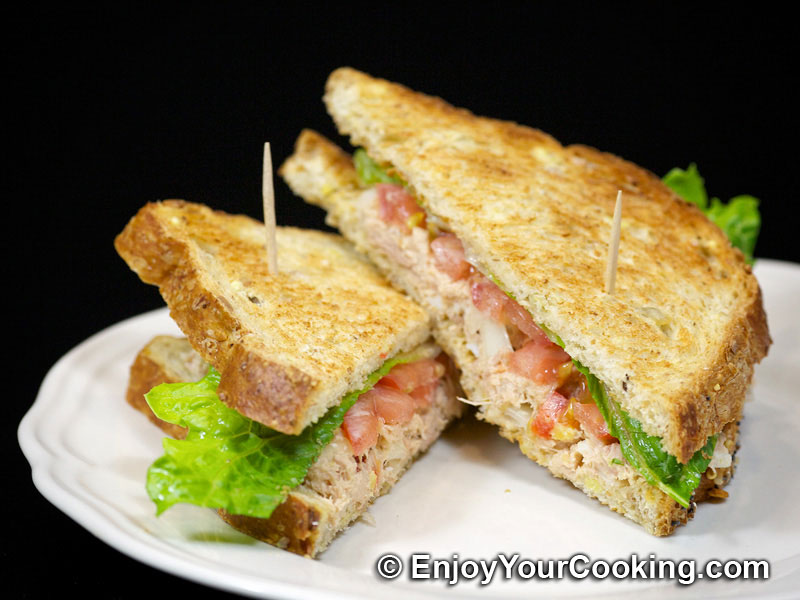sandwich: (278, 53, 786, 552), (96, 171, 493, 576)
